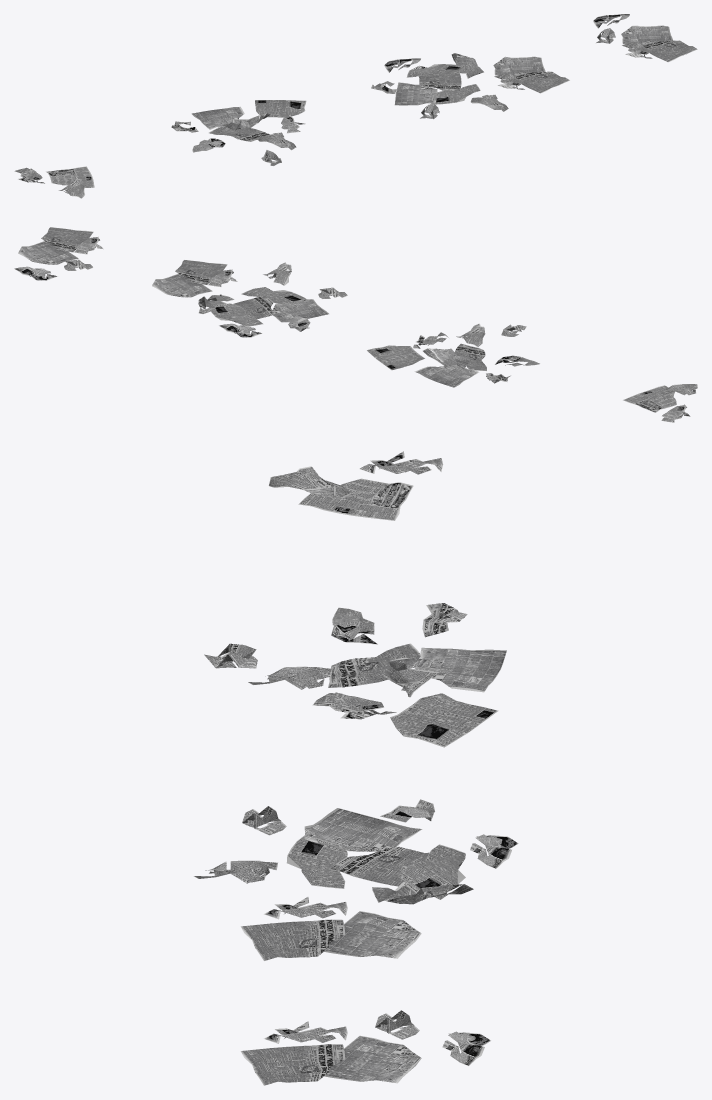
Rendered from Newspaper_-_Ready_to_Unity_HDRP.glb.
The picture shows the model from 3 angles, top to bottom: view 1: azimuth 30°, elevation 25°; view 2: azimuth 150°, elevation 25°; view 3: azimuth 270°, elevation 25°; orthographic projection. The views are drawn at different scales.
Parts seen in each view (by area): view 1: Mesh_Newspaper03_LOD0_Mesh_Newspaper_01_0, Mesh_Newspaper02_LOD0_Mesh_Newspaper_01_0, Mesh_Newspaper04_LOD0_Mesh_Newspaper_01_0, Mesh_Newspaper01_LOD0_Mesh_Newspaper_01_0; view 2: Mesh_Newspaper03_LOD0_Mesh_Newspaper_01_0, Mesh_Newspaper02_LOD0_Mesh_Newspaper_01_0, Mesh_Newspaper04_LOD0_Mesh_Newspaper_01_0, Mesh_Newspaper01_LOD0_Mesh_Newspaper_01_0; view 3: Mesh_Newspaper03_LOD0_Mesh_Newspaper_01_0, Mesh_Newspaper02_LOD0_Mesh_Newspaper_01_0, Mesh_Newspaper04_LOD0_Mesh_Newspaper_01_0, Mesh_Newspaper01_LOD0_Mesh_Newspaper_01_0.
Boxes of the visible parts, x1,y1,x2,y2 form: Mesh_Newspaper03_LOD0_Mesh_Newspaper_01_0: (371,53,569,119); Mesh_Newspaper02_LOD0_Mesh_Newspaper_01_0: (171,100,306,165); Mesh_Newspaper04_LOD0_Mesh_Newspaper_01_0: (593,14,697,62); Mesh_Newspaper01_LOD0_Mesh_Newspaper_01_0: (14,166,94,198); Mesh_Newspaper03_LOD0_Mesh_Newspaper_01_0: (152,260,347,337); Mesh_Newspaper02_LOD0_Mesh_Newspaper_01_0: (367,323,539,387); Mesh_Newspaper04_LOD0_Mesh_Newspaper_01_0: (14,227,103,280); Mesh_Newspaper01_LOD0_Mesh_Newspaper_01_0: (623,384,697,422); Mesh_Newspaper03_LOD0_Mesh_Newspaper_01_0: (194,799,518,960); Mesh_Newspaper02_LOD0_Mesh_Newspaper_01_0: (204,603,506,747); Mesh_Newspaper04_LOD0_Mesh_Newspaper_01_0: (240,1010,490,1085); Mesh_Newspaper01_LOD0_Mesh_Newspaper_01_0: (269,451,443,520).
Bounding box in the file's own units: 1320 × 16.64 × 288.
1 material, 1 textured.
